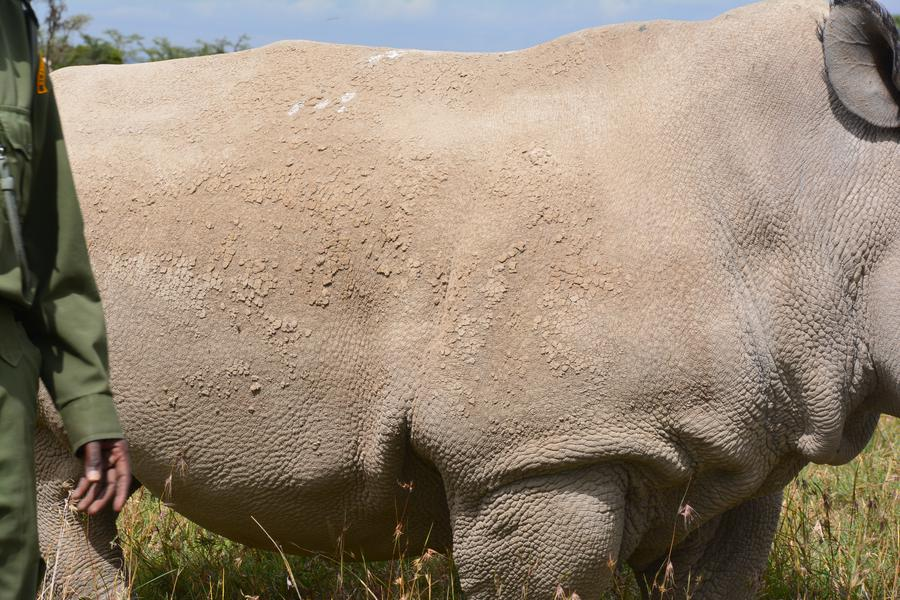rhino: (36, 24, 885, 563)
